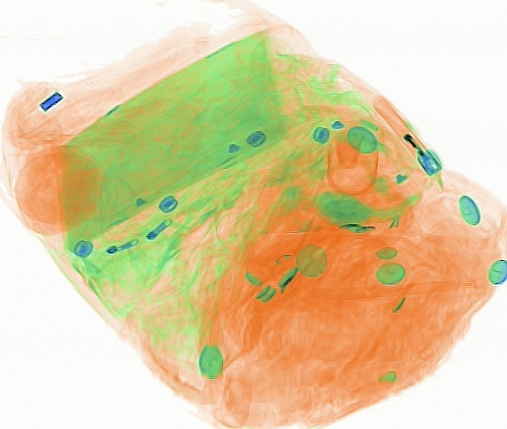lighter: (368, 94, 443, 177)
